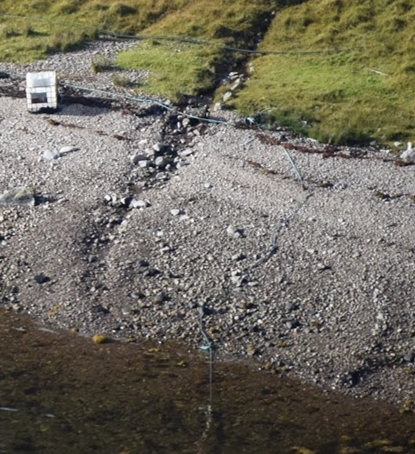cuboid: (14, 63, 72, 120)
tube: (266, 42, 379, 60), (248, 220, 284, 270), (102, 24, 188, 41), (196, 34, 266, 54), (169, 106, 234, 126), (195, 319, 217, 374), (280, 144, 307, 183), (112, 90, 166, 108), (201, 376, 219, 429), (62, 79, 110, 95)
